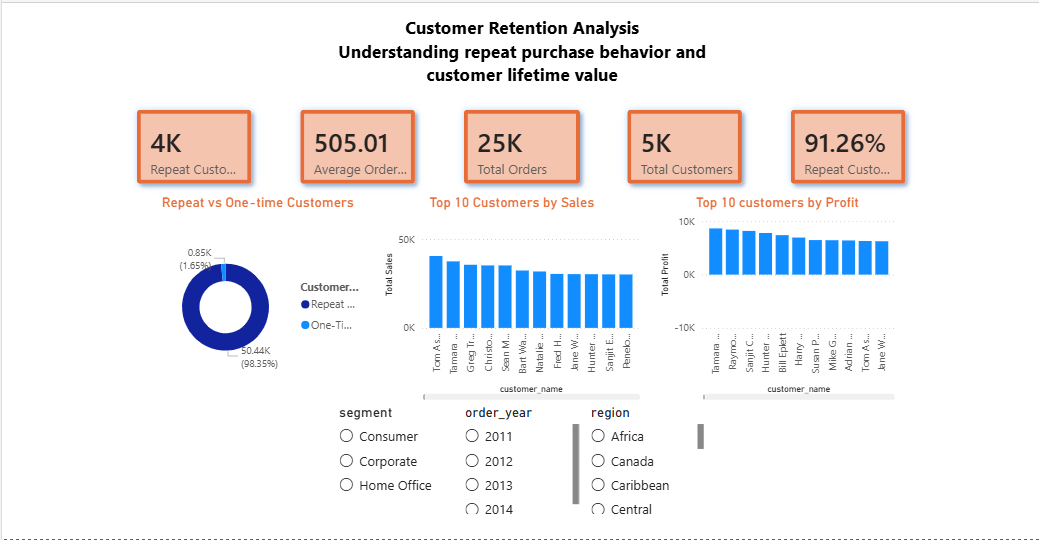

Layout of this report page (visuals, bound fields, positions):
{"tool":"powerbi","page":{"name":"Customer Retention","canvas":[1280,720],"ordinal":1},"visuals":[{"type":"textbox","box":[10,0,280,280],"z":0},{"type":"cardVisual","fields":{"Data":["superstore_cleaned.Total Customers"]},"box":[740.8,162.5,199.4,149.5],"z":0,"group":"g1"},{"type":"textbox","box":[374.2,69.9,531,96.4],"z":1000},{"type":"cardVisual","fields":{"Data":["superstore_cleaned.Repeat Customer Rate"]},"box":[941.5,162.5,199.4,149.5],"z":1000,"group":"g1"},{"type":"cardVisual","fields":{"Data":["superstore_cleaned.Repeat Customers"]},"box":[136.6,162.5,199.4,149.5],"z":2000,"group":"g1"},{"type":"textbox","box":[10,570,280,150],"z":2000},{"type":"group","id":"g1","title":"Group 1","box":[136.6,162.5,1004.3,149.5],"z":3000},{"type":"cardVisual","fields":{"Data":["superstore_cleaned.Average Order Value"]},"box":[337.4,162.5,199.4,149.5],"z":3000,"group":"g1"},{"type":"cardVisual","fields":{"Data":["superstore_cleaned.Total Orders"]},"box":[538.1,162.5,201.2,149.5],"z":4000,"group":"g1"},{"type":"group","id":"g2","title":"Group 2","box":[177.2,295.4,926.8,258.5],"z":4000},{"type":"donutChart","title":"Repeat vs One-time Customers","fields":{"Category":["superstore_cleaned.Customer Type"],"Y":["CountNonNull(superstore_cleaned.customer_id)"]},"box":[177.2,295.4,275.1,258.5],"z":4000,"group":"g2"},{"type":"clusteredColumnChart","title":"Top 10 Customers by Sales","fields":{"Category":["superstore_cleaned.customer_name"],"Y":["superstore_cleaned.Total Sales"]},"box":[466.1,295.4,324.9,258.5],"z":5000,"group":"g2"},{"type":"group","id":"g3","title":"Group 3","box":[409.8,553.9,459.7,140.3],"z":5000},{"type":"clusteredColumnChart","title":"Top 10 customers by Profit","fields":{"Category":["superstore_cleaned.customer_name"],"Y":["superstore_cleaned.Total Profit"]},"box":[804.9,295.4,299.1,258.5],"z":6000,"group":"g2"},{"type":"listSlicer","fields":{"Values":["superstore_cleaned.segment"]},"box":[409.8,554.4,149.5,140.3],"z":7000,"group":"g3"},{"type":"listSlicer","fields":{"Values":["superstore_cleaned.region"]},"box":[720,554.4,149.5,140.3],"z":8000,"group":"g3"},{"type":"listSlicer","fields":{"Values":["superstore_cleaned.order_year"]},"box":[564.6,553.9,150,141],"z":9000,"group":"g3"}]}

Visuals, with their boxes on the page's 1280x720 design canvas (x1, y1, x2, y2). These are canvas units, not pixel positions in the 1039x540 screenshot, which may show the page scaled, cropped or inside an application window:
textbox: BBox(10, 0, 290, 280)
cardVisual - superstore_cleaned.Total Customers: BBox(741, 162, 940, 312)
textbox: BBox(374, 70, 905, 166)
cardVisual - superstore_cleaned.Repeat Customer Rate: BBox(942, 162, 1141, 312)
cardVisual - superstore_cleaned.Repeat Customers: BBox(137, 162, 336, 312)
textbox: BBox(10, 570, 290, 720)
"Group 1" group: BBox(137, 162, 1141, 312)
cardVisual - superstore_cleaned.Average Order Value: BBox(337, 162, 537, 312)
cardVisual - superstore_cleaned.Total Orders: BBox(538, 162, 739, 312)
"Group 2" group: BBox(177, 295, 1104, 554)
"Repeat vs One-time Customers" donutChart: BBox(177, 295, 452, 554)
"Top 10 Customers by Sales" clusteredColumnChart: BBox(466, 295, 791, 554)
"Group 3" group: BBox(410, 554, 870, 694)
"Top 10 customers by Profit" clusteredColumnChart: BBox(805, 295, 1104, 554)
listSlicer - superstore_cleaned.segment: BBox(410, 554, 559, 695)
listSlicer - superstore_cleaned.region: BBox(720, 554, 870, 695)
listSlicer - superstore_cleaned.order_year: BBox(565, 554, 715, 695)
